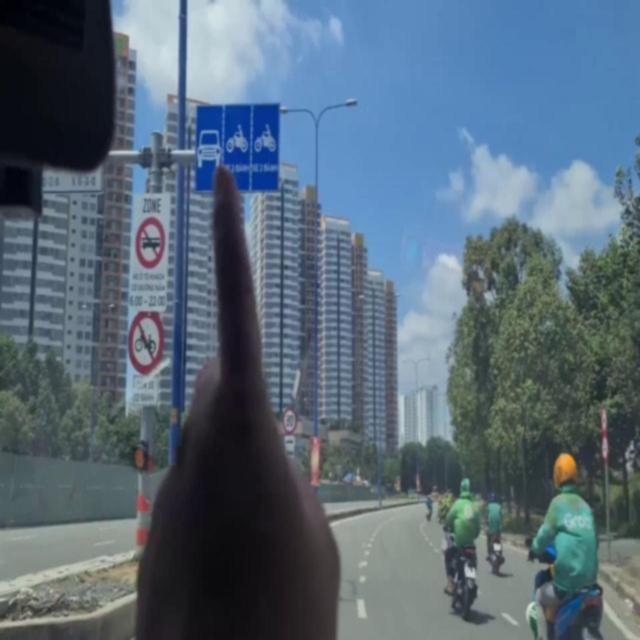Biển phụ: (128, 373, 162, 409), (283, 432, 297, 459)
Cấm các phương tiện hoạt động trong khung giờ cố định: (117, 185, 169, 310)
Cấm xe máy: (118, 307, 167, 374)
Giới hạn tốc độ: 80Km/h: (281, 404, 297, 431)
Làn đường cho từng xe: (193, 97, 280, 195)
